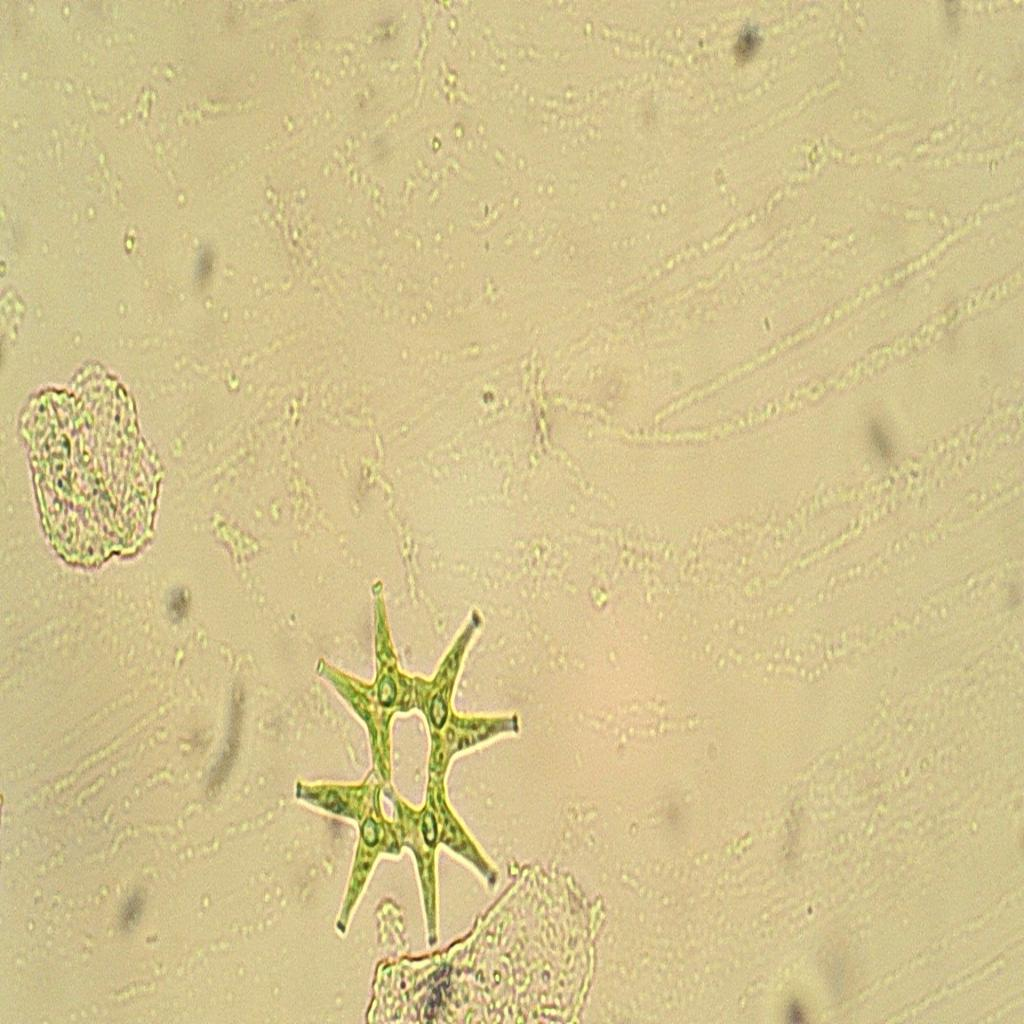Pediastrum_75FO: (291, 568, 519, 965)
